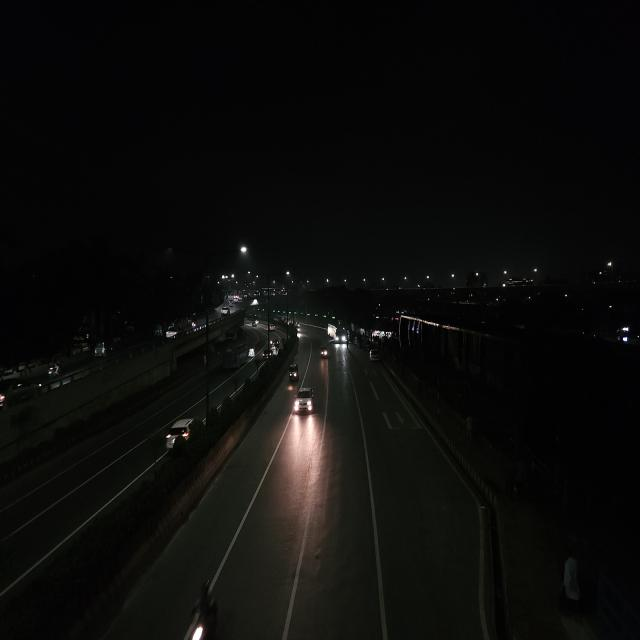bus: (223, 346, 248, 366), (333, 325, 349, 347)
car: (0, 371, 42, 413), (163, 413, 203, 452), (294, 383, 314, 417), (165, 326, 179, 341), (368, 347, 380, 364), (219, 306, 231, 318), (270, 324, 276, 331)
cng: (92, 339, 108, 358), (287, 363, 299, 386), (320, 345, 328, 358), (249, 346, 255, 360)
motorcycle: (46, 357, 62, 379)
